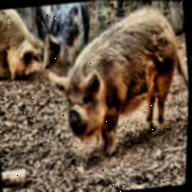boar: (49, 10, 192, 160), (15, 1, 93, 60), (0, 5, 53, 91)
